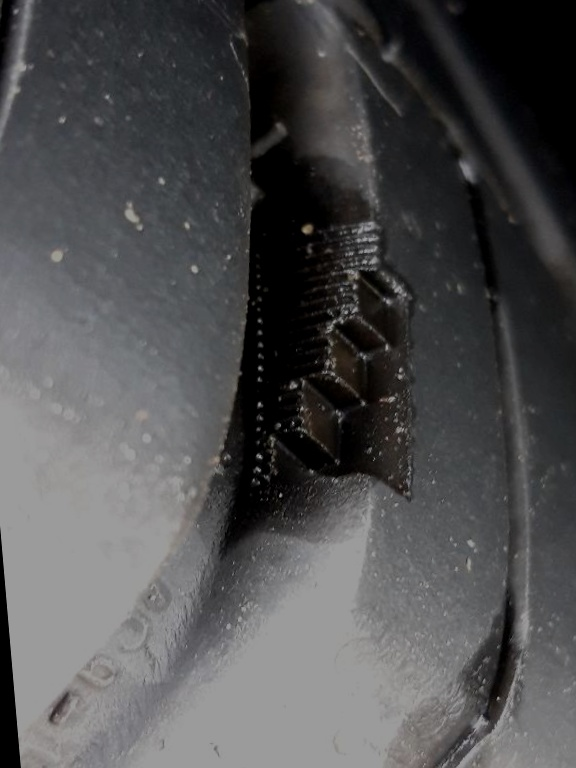temoin:90: (221, 212, 442, 512)
